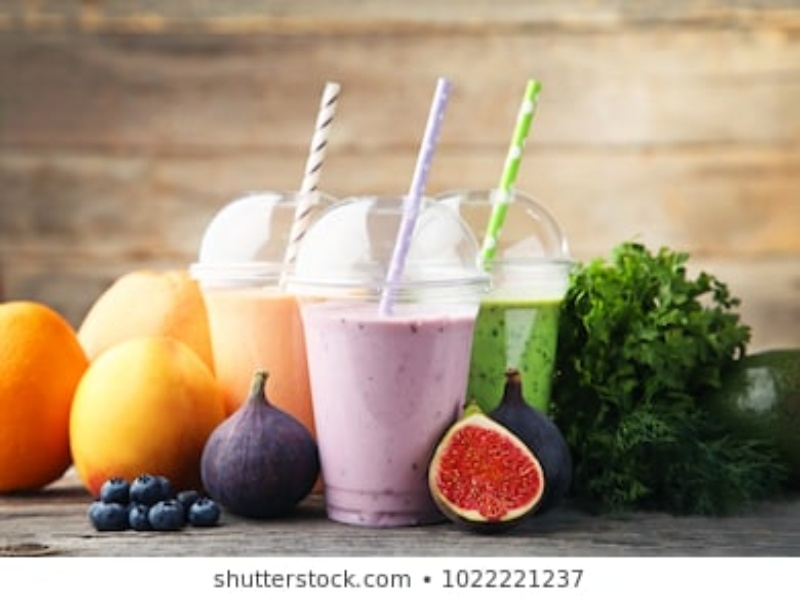plastic-cup: (289, 191, 476, 532), (181, 178, 331, 425), (442, 185, 569, 418)
straw: (372, 72, 458, 320), (471, 77, 545, 288), (275, 72, 348, 280)
